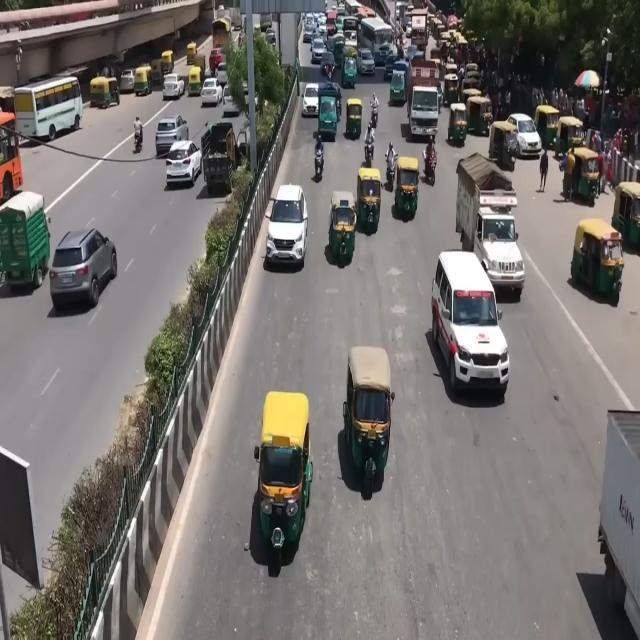auto: (256, 392, 314, 551), (344, 346, 395, 485), (571, 218, 623, 301), (563, 146, 601, 205), (327, 191, 357, 265), (612, 181, 640, 251), (357, 167, 382, 235), (395, 158, 421, 221), (489, 119, 518, 170), (466, 95, 492, 139), (89, 75, 120, 108), (447, 102, 467, 146), (345, 97, 363, 139), (442, 67, 460, 106), (566, 119, 586, 153), (150, 58, 170, 89), (134, 66, 152, 96), (187, 66, 203, 97), (161, 50, 174, 73), (186, 42, 197, 64)
bike-auto: (384, 142, 398, 182), (364, 123, 376, 159), (133, 115, 143, 154), (425, 138, 436, 173), (314, 137, 324, 172), (370, 94, 379, 124)
